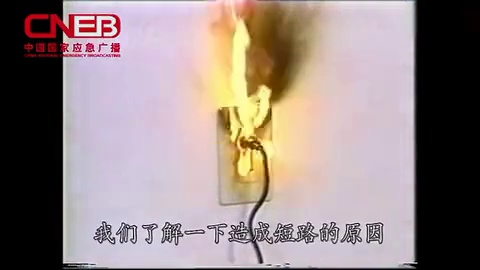fire: (216, 5, 275, 178)
